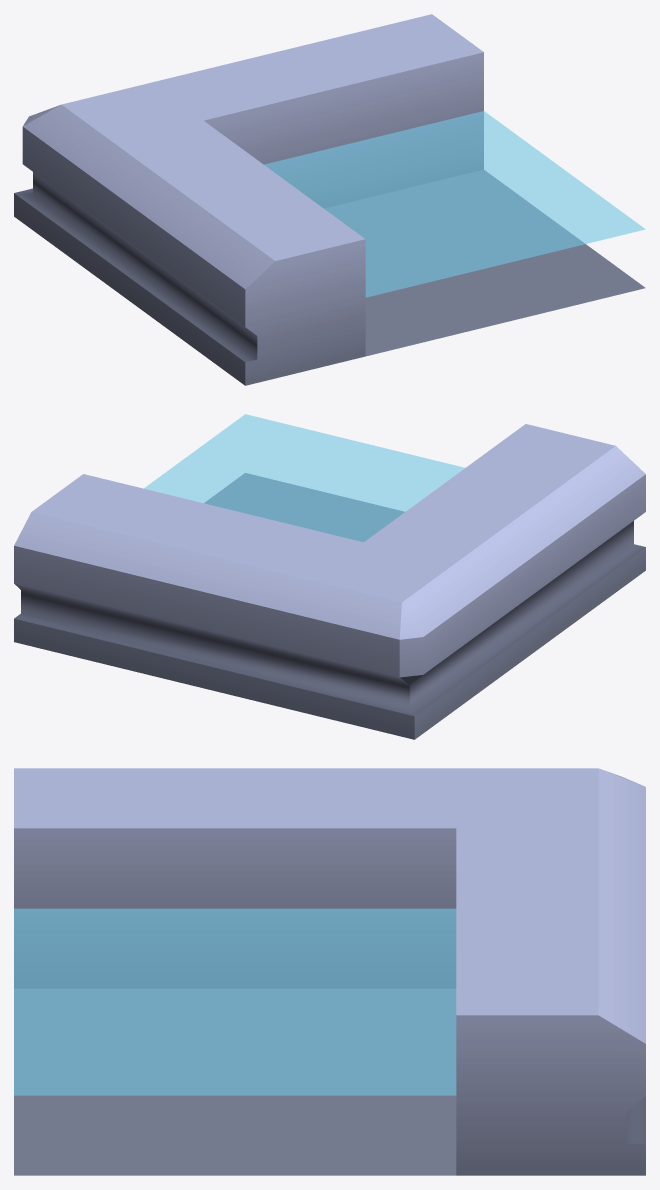
Rendered from kenney-fantasy-town-fountain-corner.glb.
3 views of the same model, one above another, from view 1: azimuth 30°, elevation 25°; view 2: azimuth 150°, elevation 25°; view 3: azimuth 270°, elevation 25° (orthographic). The views are drawn at different scales.
Parts seen in each view (by area): view 1: fountain-corner, (%ignore); view 2: fountain-corner, (%ignore); view 3: fountain-corner, (%ignore).
Boxes of the visible parts, <box> form: fountain-corner: <box>14,14,645,385</box>; (%ignore): <box>264,111,645,297</box>; fountain-corner: <box>14,424,645,739</box>; (%ignore): <box>144,414,464,542</box>; fountain-corner: <box>14,768,645,1175</box>; (%ignore): <box>14,908,456,1095</box>.
Bounding box in the file's own units: 1 × 0.2799 × 1.
Materials: 2 (1 with a texture image).
